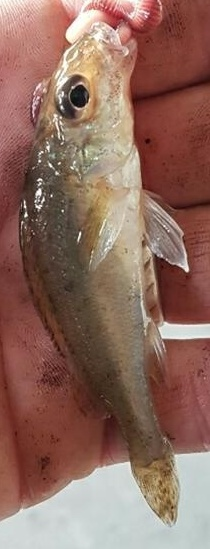Gymnocephalus cernuus: (20, 20, 190, 529)
